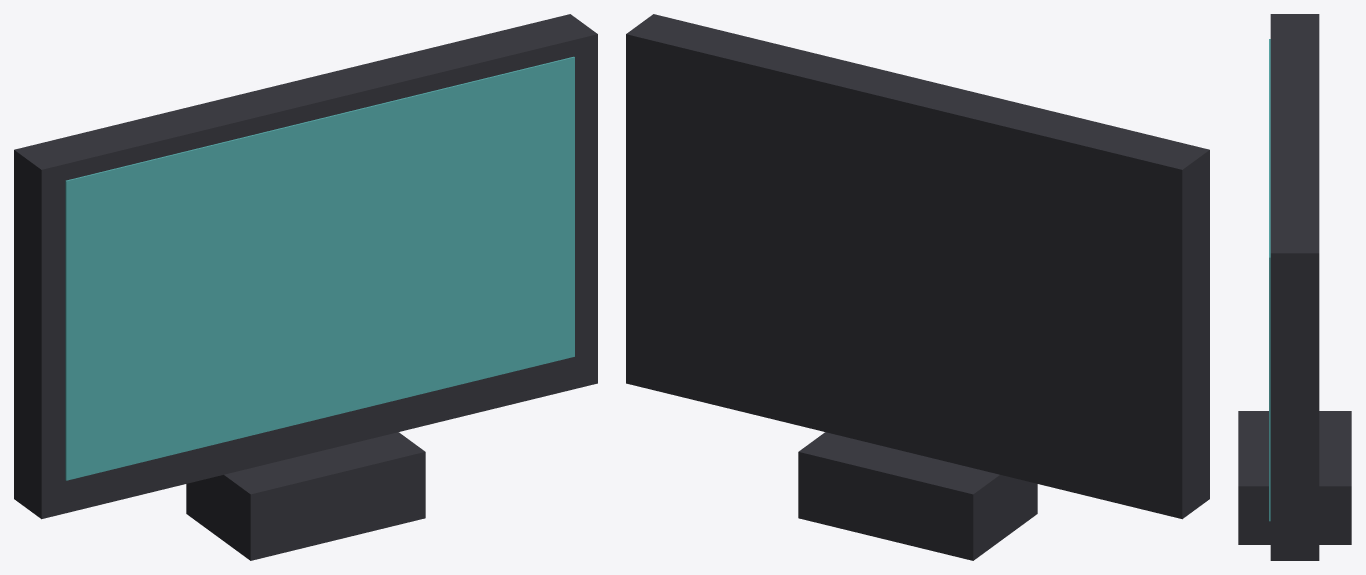
Rendered from sm_product_television.glb.
3 views of the same model, side by side, from view 1: azimuth 30°, elevation 25°; view 2: azimuth 150°, elevation 25°; view 3: azimuth 270°, elevation 25° (orthographic). The views are drawn at different scales.
Parts seen in each view (by area): view 1: television_1, television_0, television_2; view 2: television_0, television_2; view 3: television_0, television_2, television_1.
Part boxes in pixels (box(x1,y1,x2,y2)): television_1: box(65, 56, 574, 480); television_0: box(14, 14, 597, 519); television_2: box(186, 432, 425, 560); television_0: box(626, 14, 1209, 519); television_2: box(798, 432, 1037, 560); television_0: box(1270, 14, 1319, 560); television_2: box(1238, 411, 1351, 544); television_1: box(1269, 39, 1270, 521).
Size of what is drawn, in the model's own units: 0.7 by 0.51 by 0.14.
